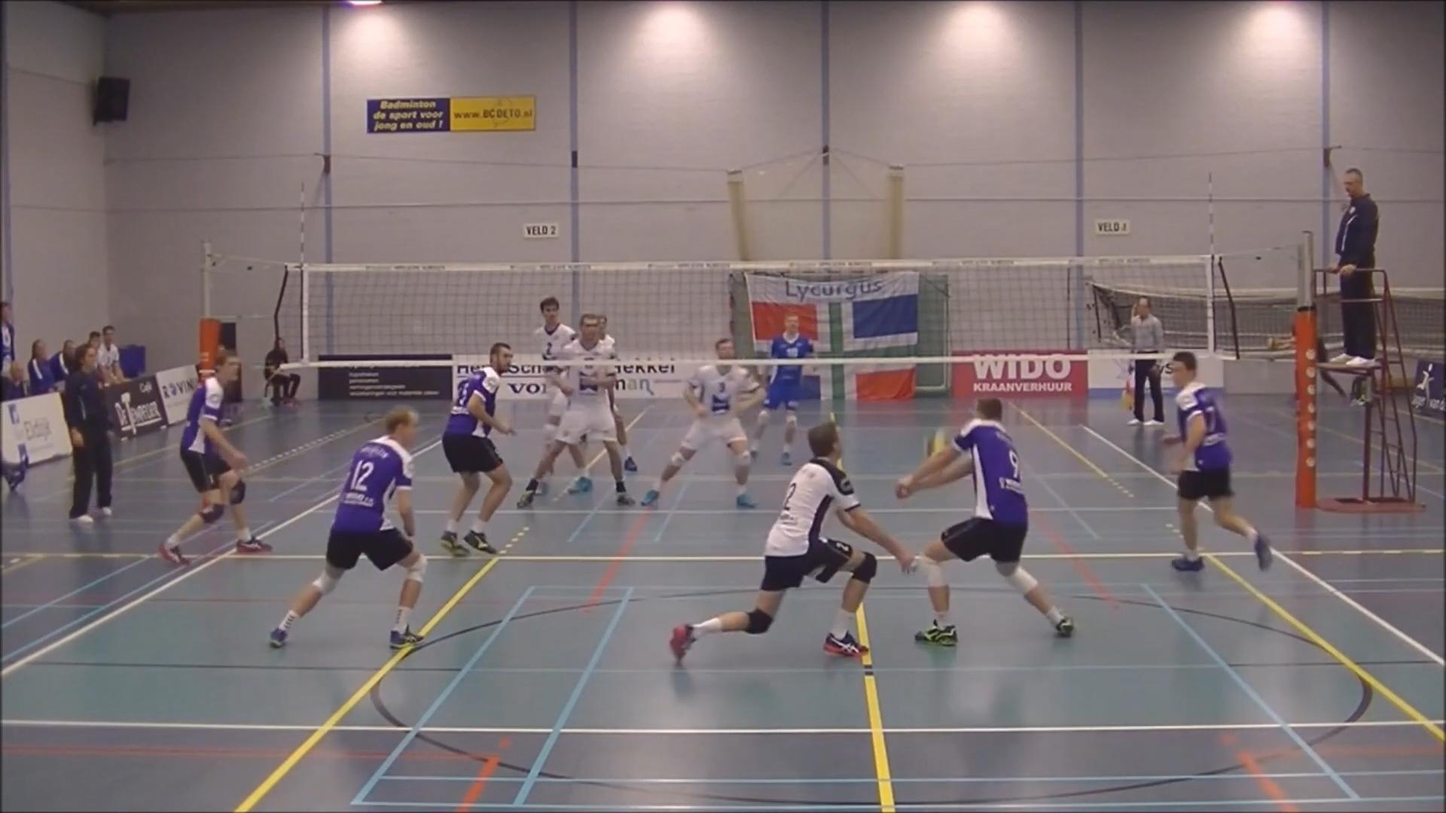ricezione: (896, 398, 1081, 649)
